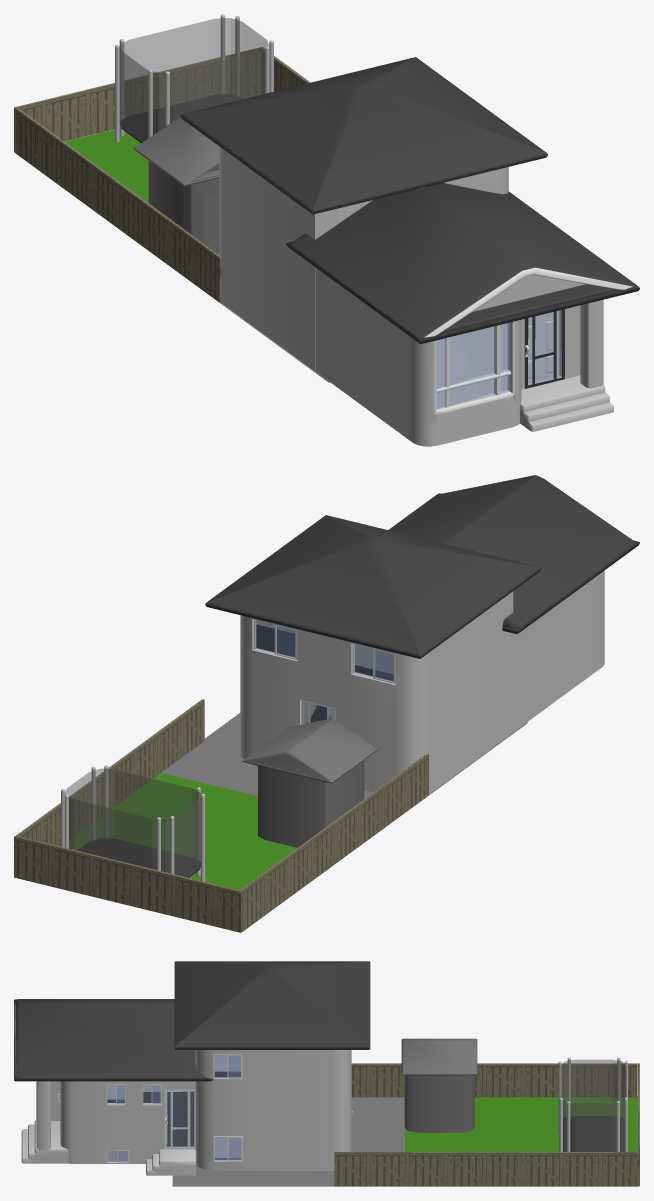
Rendered from house 338.fbx.
3 renders of one model, top to bottom at view 1: azimuth 30°, elevation 25°; view 2: azimuth 150°, elevation 25°; view 3: azimuth 270°, elevation 25°, orthographic. The views are drawn at different scales.
Visible parts, largest first — view 1: Cube.004, Cube.003, Cube.001, Cube.002, Cube.050, Cube.008, Cube.006, Cube, Cube.009, Cube.043, Plane, Cube.022 (+3 smaller); view 2: Cube.002, Cube.003, Cube.004, Plane, Cube.050, Cube.006, Cube.001, Cube.008, Cube.005, Cube, Cube.043, Plane.001 (+4 smaller); view 3: Cube.002, Cube.003, Cube.004, Cube.005, Cube.001, Plane, Cube.008, Cube.050, Plane.001, Cube, Cube.043, Cube.023 (+11 smaller).
Part boxes in pixels (<box>): Cube.004: <box>286,183,639,344</box>; Cube.003: <box>180,57,547,214</box>; Cube.001: <box>315,267,580,446</box>; Cube.002: <box>219,146,508,371</box>; Cube.050: <box>119,18,269,142</box>; Cube.008: <box>16,108,221,302</box>; Cube.006: <box>14,47,263,153</box>; Cube: <box>148,160,219,254</box>; Cube.009: <box>520,375,613,431</box>; Cube.043: <box>133,116,219,186</box>; Plane: <box>15,94,261,268</box>; Cube.022: <box>524,309,564,388</box>; Cube.002: <box>240,591,513,793</box>; Cube.003: <box>205,515,540,658</box>; Cube.004: <box>388,475,639,634</box>; Plane: <box>60,772,383,931</box>; Cube.050: <box>64,768,201,877</box>; Cube.006: <box>14,835,242,932</box>; Cube.001: <box>513,570,604,731</box>; Cube.008: <box>240,754,428,931</box>; Cube.005: <box>16,699,204,846</box>; Cube: <box>258,760,364,847</box>; Cube.043: <box>243,718,378,783</box>; Plane.001: <box>161,713,527,826</box>; Cube.002: <box>195,1050,351,1170</box>; Cube.003: <box>174,961,370,1049</box>; Cube.004: <box>14,999,212,1081</box>; Cube.005: <box>334,1152,637,1186</box>; Cube.001: <box>36,1081,195,1163</box>; Plane: <box>405,1097,637,1186</box>; Cube.008: <box>351,1063,637,1097</box>; Cube.050: <box>560,1059,626,1151</box>; Plane.001: <box>172,1097,404,1186</box>; Cube: <box>404,1075,474,1132</box>; Cube.043: <box>401,1038,477,1075</box>; Cube.023: <box>164,1089,195,1149</box>.
Size of the model in its own units: 1234 by 1094 by 3417.
